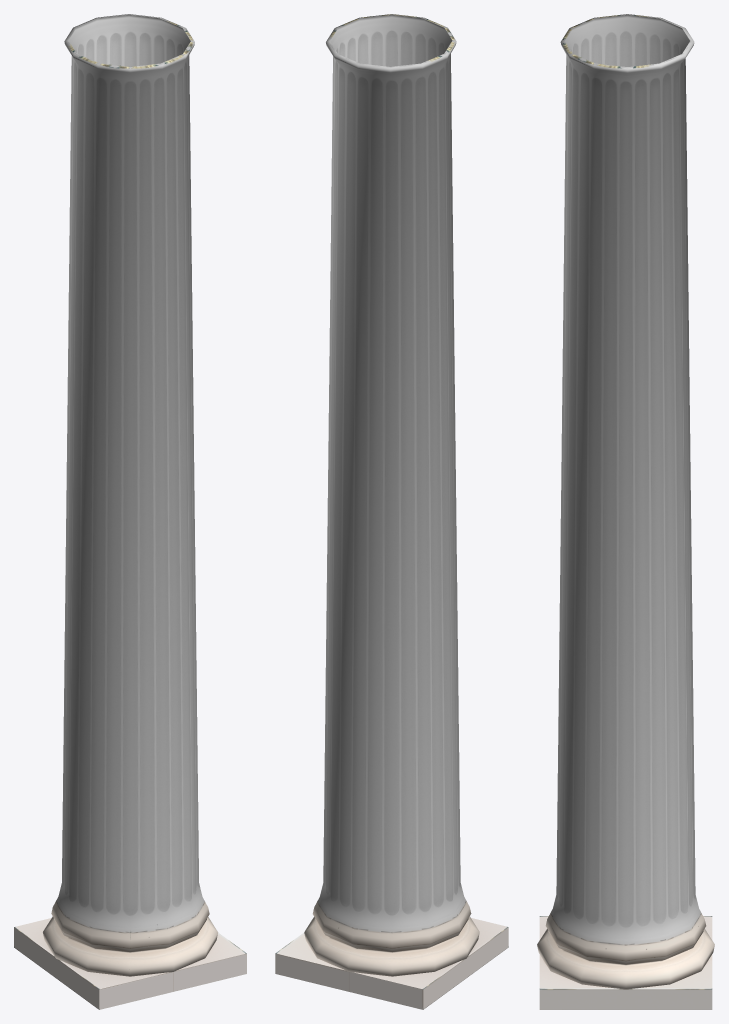
The model's file is column-propylon.glb.
3 views of the same model, side by side, from view 1: azimuth 30°, elevation 25°; view 2: azimuth 150°, elevation 25°; view 3: azimuth 270°, elevation 25° (orthographic).
Visible parts, largest first — view 1: BezierCircle.001; view 2: BezierCircle.001; view 3: BezierCircle.001.
Boxes of the visible parts, bbox=[...] form: BezierCircle.001: bbox=[14, 14, 246, 1009]; BezierCircle.001: bbox=[275, 14, 508, 1009]; BezierCircle.001: bbox=[537, 14, 714, 1009].
Bounding box in the file's own units: 1.08 × 6.26 × 1.08.
1 material, 1 textured.
